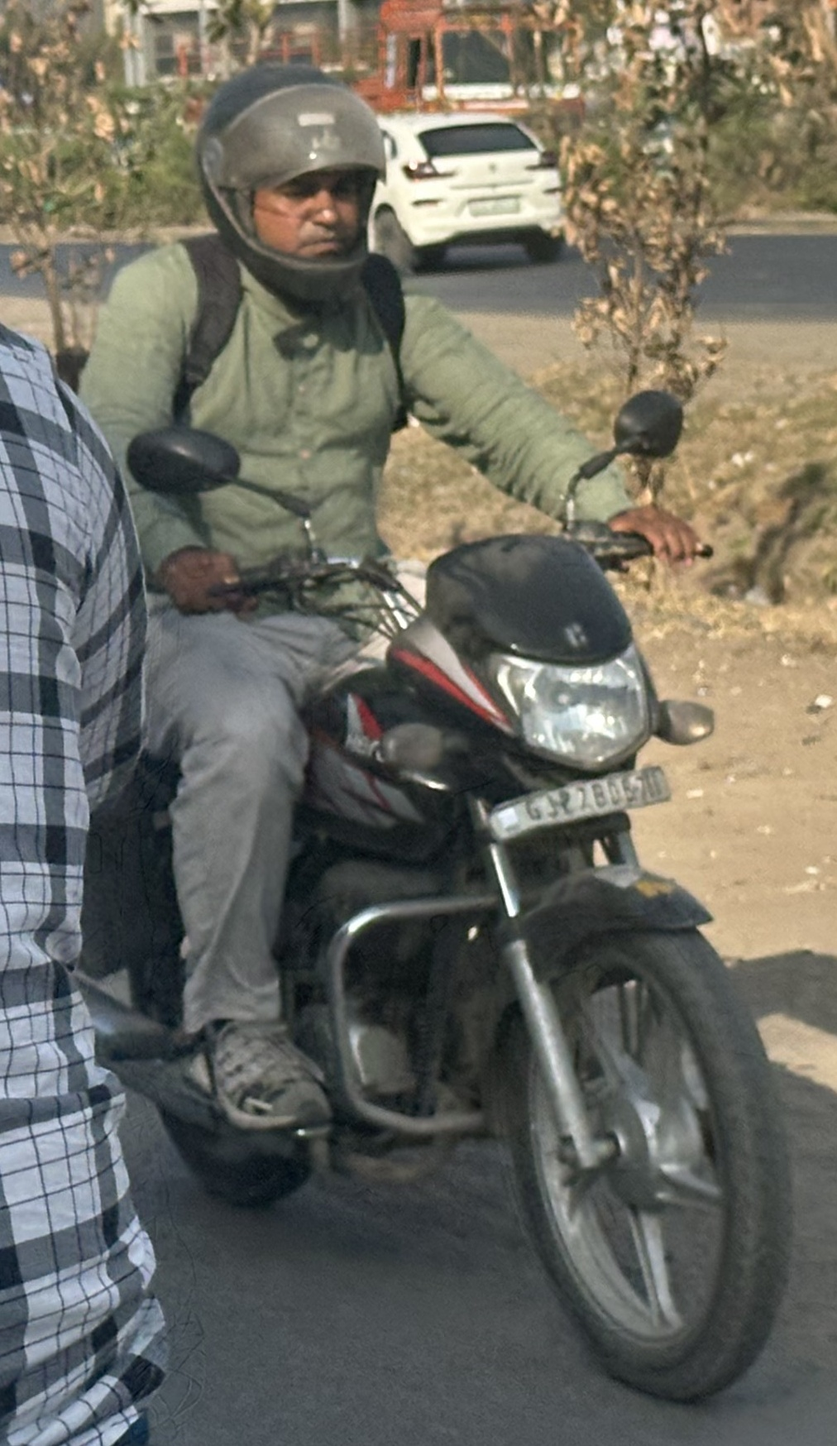BikeWithRider: (31, 31, 814, 1420)
Helmet: (184, 54, 399, 312)
